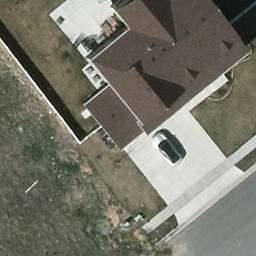car: (149, 131, 183, 167)
